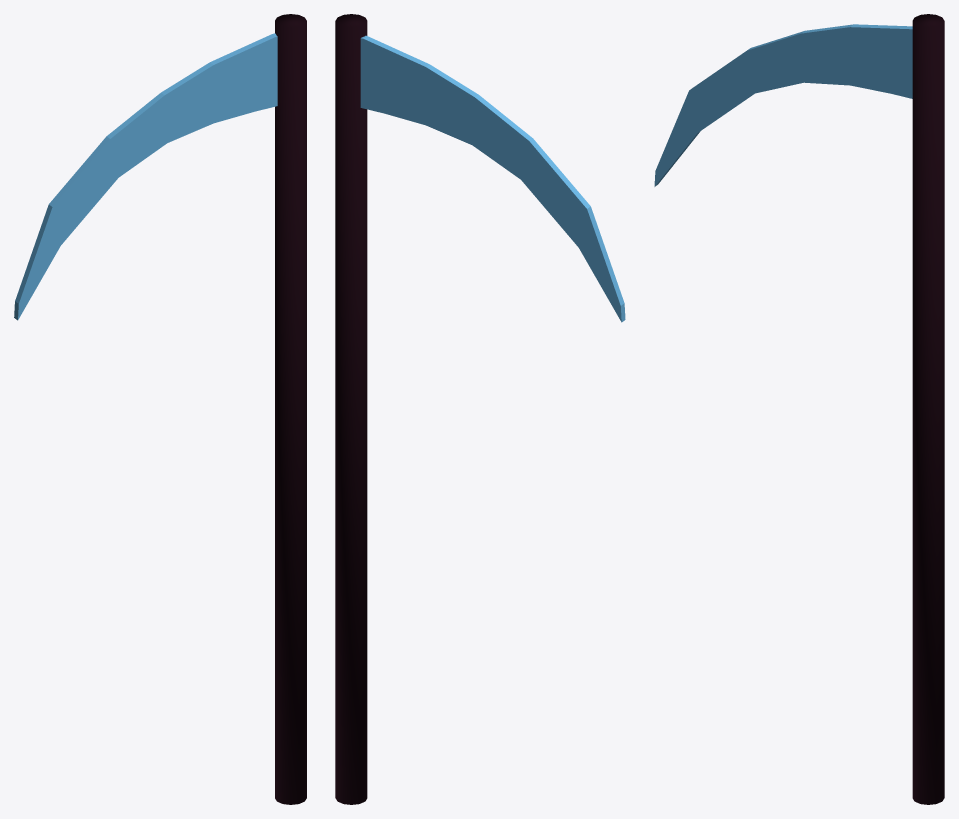
Rendered from Scythe.fbx.
3 renders of one model, left to right at view 1: azimuth 30°, elevation 25°; view 2: azimuth 150°, elevation 25°; view 3: azimuth 330°, elevation 25°, orthographic.
Parts seen in each view (by area): view 1: Scythe; view 2: Scythe; view 3: Scythe.
Boxes of the visible parts, left/top/right/bottom form: Scythe: left=14, top=14, right=306, bottom=804; Scythe: left=335, top=14, right=625, bottom=804; Scythe: left=654, top=14, right=944, bottom=804.
Size of the model in its own units: 0.7445 by 1.92 by 0.0718.
